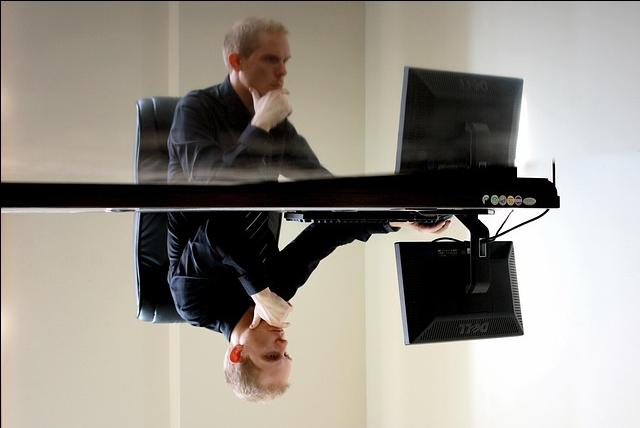Non_Gorille: (1, 0, 589, 426)
